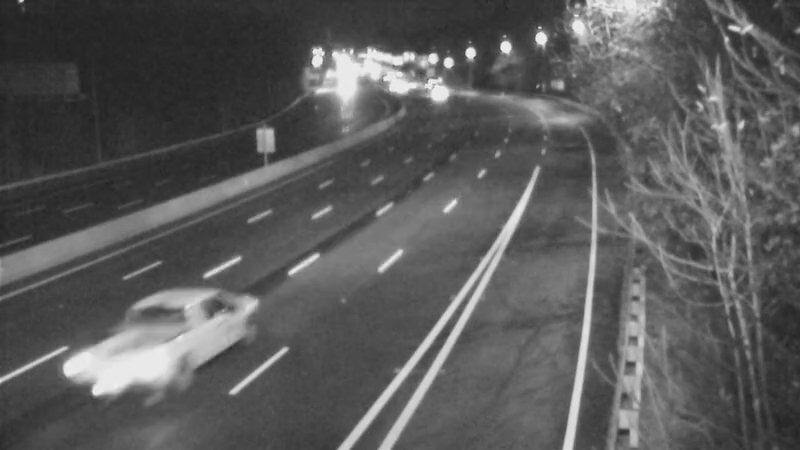vehicle: (84, 300, 194, 410), (415, 66, 465, 116)
